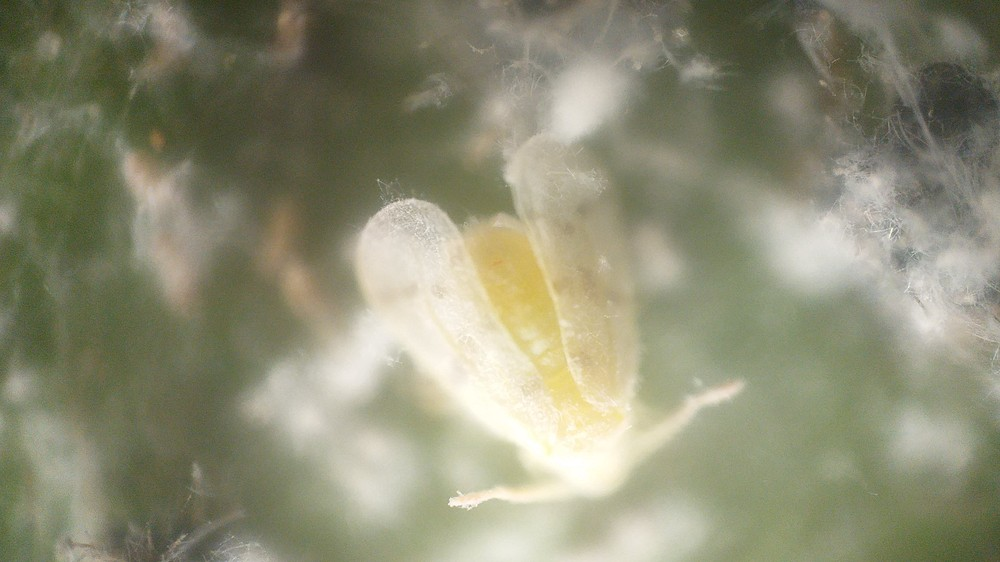Mosca Blanca: (343, 129, 752, 529)
